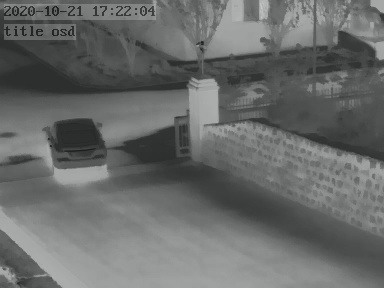vehicle: (47, 120, 110, 176)
